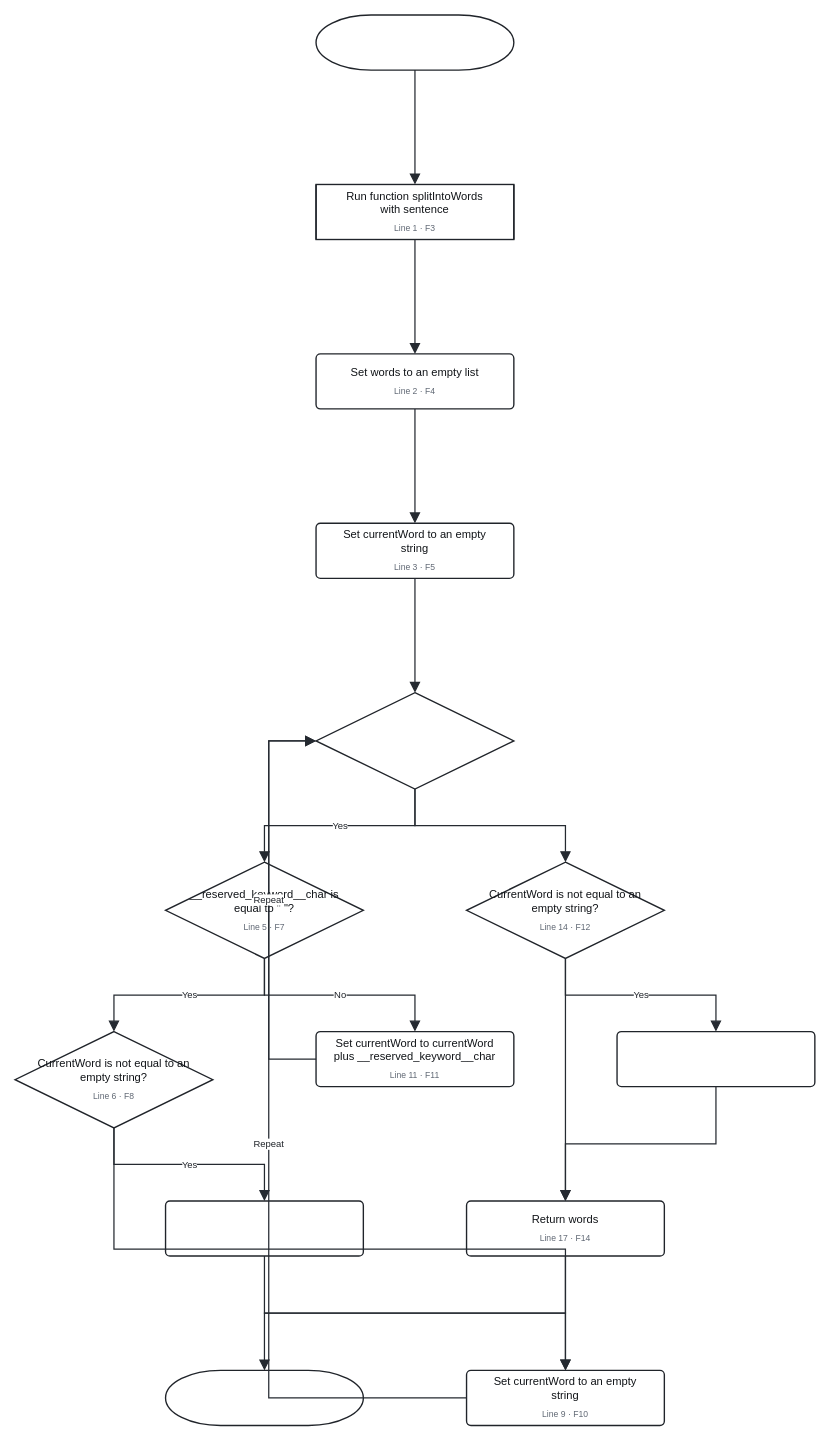
The diagram is 831 pixels wide and 1441 high, and some of its shapes have lost their labels. Here are the shapes that lost their labels. From the top down, the box of each, then its label:
(315, 14, 514, 70): Start Line 1 · F1
(315, 692, 514, 789): For each __reserved_keyword__char in sentence Line 4 · F6
(616, 1030, 815, 1087): Append currentWord to words Line 15 · F13
(164, 1200, 364, 1256): Append currentWord to words Line 7 · F9
(164, 1369, 364, 1426): End Line 1 · F2
